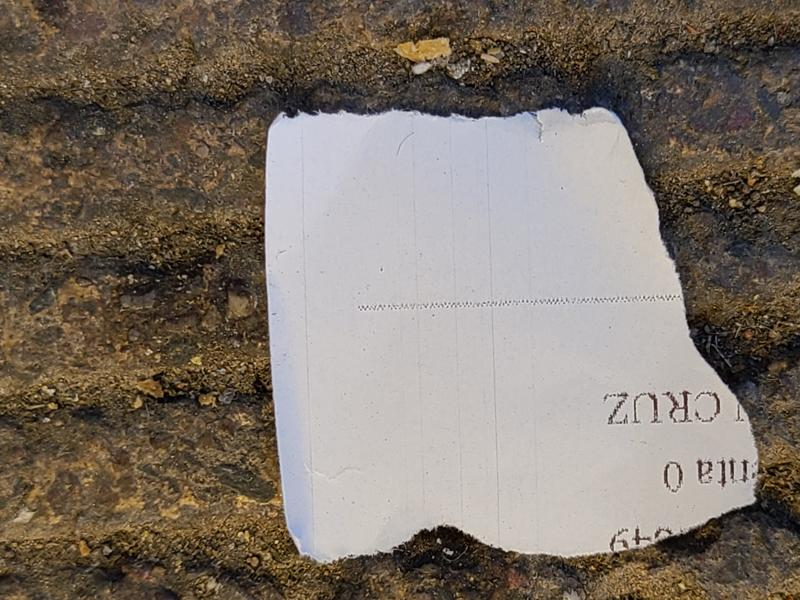papel: (262, 107, 761, 566)
